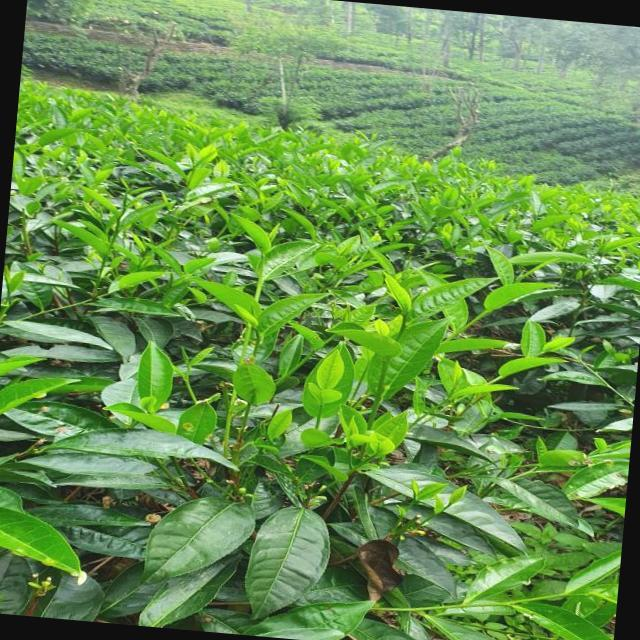Stem: (257, 277, 265, 289), (478, 310, 490, 318), (398, 326, 406, 337), (407, 500, 416, 508), (112, 231, 120, 240), (255, 339, 261, 350), (185, 379, 191, 389)
